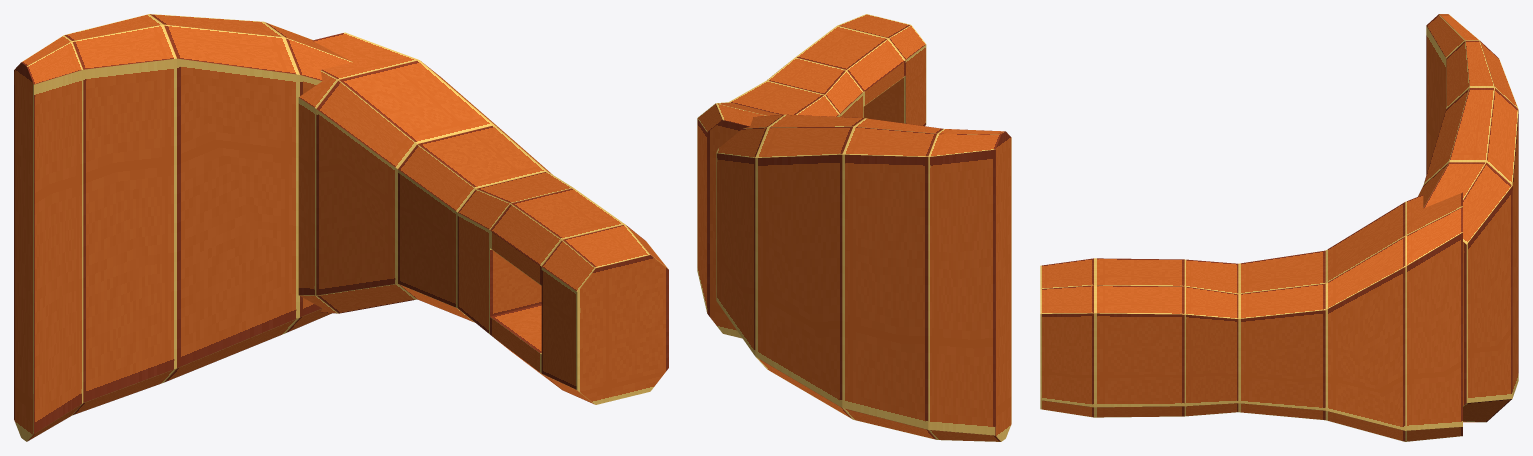
File: bench_hoe_1_hot.obj
3 views of the same model, side by side, from view 1: azimuth 30°, elevation 25°; view 2: azimuth 150°, elevation 25°; view 3: azimuth 270°, elevation 25° (orthographic). The views are drawn at different scales.
Parts seen in each view (by area): view 1: geometry; view 2: geometry; view 3: geometry.
Part boxes in pixels (x1,y1,x2,y2): geometry: [14, 14, 668, 441]; geometry: [697, 14, 1011, 441]; geometry: [1040, 14, 1518, 441].
Bounding box in the file's own units: 0.2959 × 0.25 × 0.3282.
